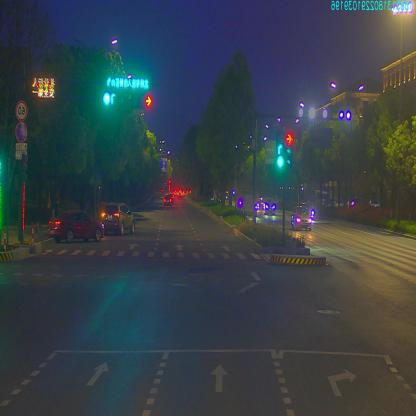traffic-light: (109, 72, 151, 89), (102, 90, 117, 106), (140, 93, 152, 109)
